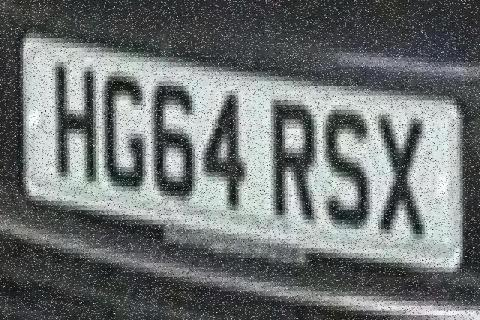LicensePlate: (17, 14, 470, 284)
